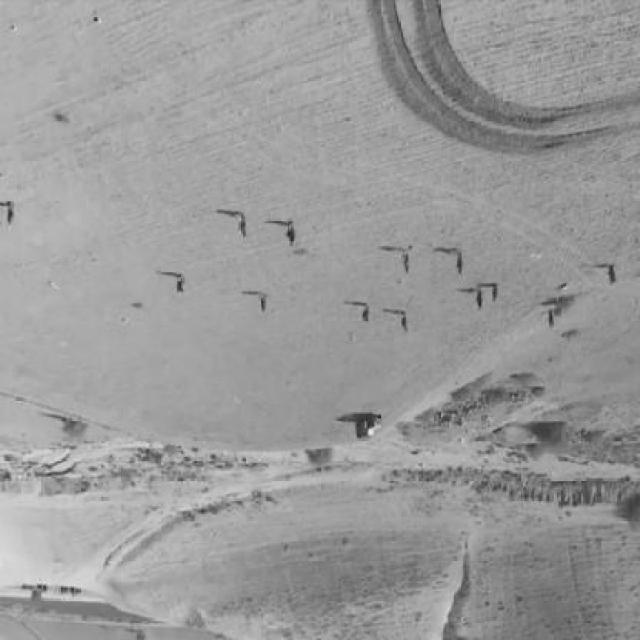Person: (6, 202, 17, 234), (285, 224, 297, 253), (173, 274, 187, 297), (237, 212, 248, 241), (474, 289, 485, 315), (488, 284, 500, 307), (400, 253, 411, 278), (360, 304, 371, 327), (453, 257, 464, 280), (258, 295, 269, 316), (400, 311, 409, 336), (608, 267, 616, 290), (546, 310, 554, 333)
